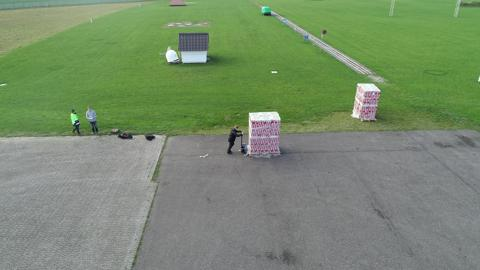RockwoolPallet: (247, 112, 282, 156)
